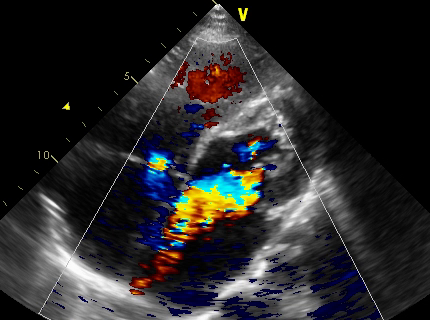TR: (105, 143, 180, 202)
